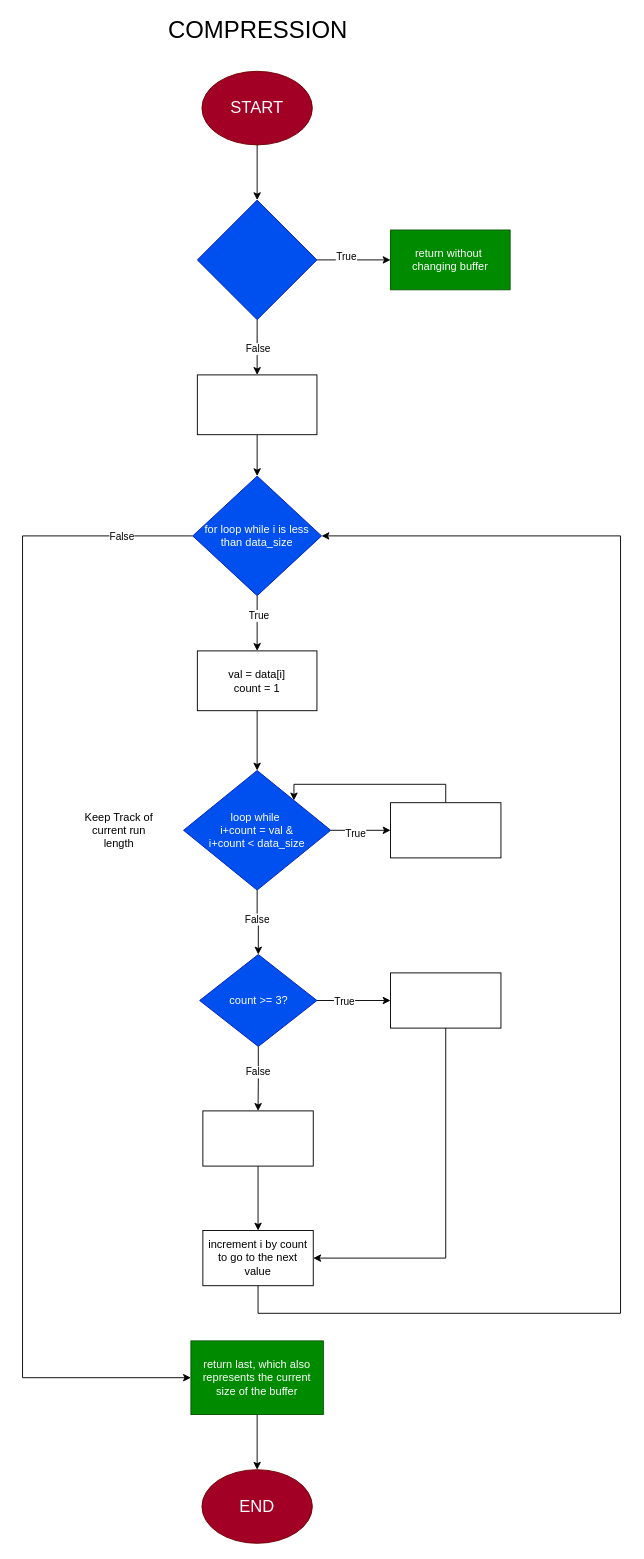
This 644x1559 diagram has some shape labels left out. The box of each missing label's shape, as (x1, y1, x2, y2) in pixels:
count += 1: (390, 802, 501, 858)
is the data size less than 3?: (196, 199, 317, 320)
last = 0: (196, 374, 317, 435)
put count and value into the data buffer: (390, 972, 501, 1028)
Write the values directly into data buffer: (202, 1110, 313, 1166)
